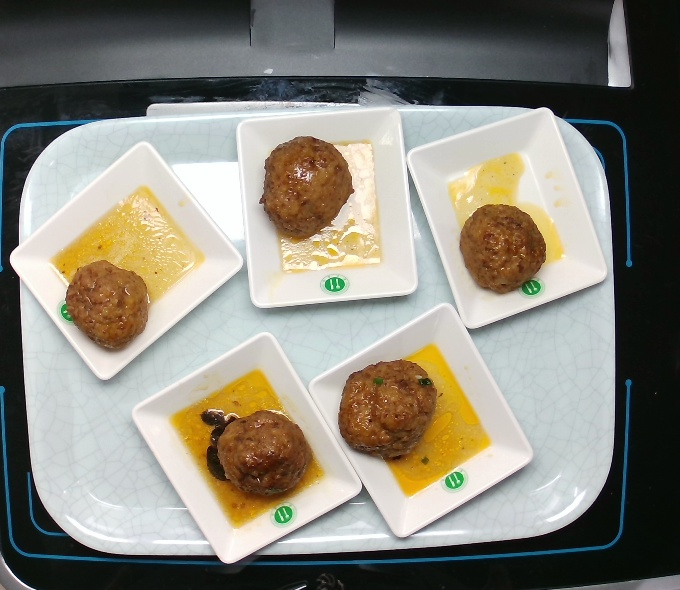wcq-ShiZiTou: (184, 398, 320, 505), (333, 350, 445, 468), (252, 129, 360, 247), (453, 191, 552, 301), (54, 248, 154, 352)
